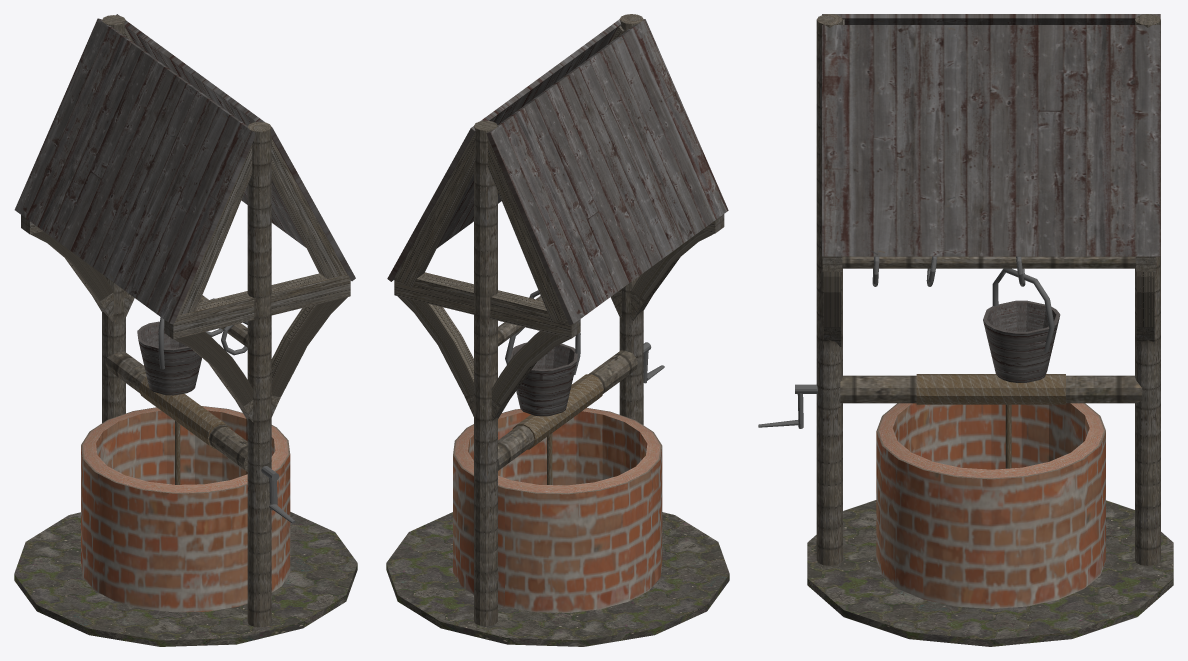
Rendered from WaterWeel.fbx.
3 views of the same model, side by side, from view 1: azimuth 30°, elevation 25°; view 2: azimuth 150°, elevation 25°; view 3: azimuth 270°, elevation 25° (orthographic). The views are drawn at different scales.
Parts seen in each view (by area): view 1: pCube12, pCylinder2, pCylinder1, pCylinder10, pCube10, pCube13, pCube7, pCylinder11, pCube8, pCylinder3, pCube6, pCube9 (+3 smaller); view 2: pCube12, pCylinder2, pCylinder1, pCylinder3, pCube1, pCube13, pCube5, pCylinder11, pCylinder10, pCube3, pCube4, pCube2 (+3 smaller); view 3: pCube13, pCylinder2, pCylinder1, pCylinder10, pCylinder3, pCylinder11, pCylinder6, pCylinder12, pCylinder5, pCube12, pCube8, pCube3 (+1 smaller).
Boxes of the visible parts, left/top/right/bottom form: pCube12: left=14, top=18, right=255, bottom=324; pCylinder2: left=81, top=406, right=290, bottom=612; pCylinder1: left=14, top=512, right=357, bottom=646; pCylinder10: left=247, top=121, right=271, bottom=627; pCube10: left=164, top=273, right=350, bottom=339; pCube13: left=116, top=14, right=355, bottom=281; pCube7: left=271, top=138, right=346, bottom=278; pCylinder11: left=137, top=321, right=201, bottom=395; pCube8: left=271, top=297, right=347, bottom=416; pCylinder3: left=102, top=15, right=125, bottom=422; pCube6: left=178, top=144, right=252, bottom=315; pCube9: left=174, top=332, right=253, bottom=422; pCube12: left=486, top=19, right=728, bottom=324; pCylinder2: left=453, top=408, right=662, bottom=612; pCylinder1: left=386, top=512, right=729, bottom=646; pCylinder3: left=474, top=120, right=497, bottom=626; pCube1: left=394, top=272, right=580, bottom=338; pCube13: left=387, top=19, right=620, bottom=281; pCube5: left=395, top=133, right=474, bottom=287; pCylinder11: left=510, top=342, right=577, bottom=416; pCylinder10: left=619, top=14, right=643, bottom=424; pCube3: left=397, top=296, right=473, bottom=416; pCube4: left=487, top=137, right=566, bottom=322; pCube2: left=491, top=331, right=570, bottom=421; pCube13: left=822, top=25, right=1160, bottom=256; pCylinder2: left=876, top=403, right=1105, bottom=608; pCylinder1: left=807, top=500, right=1173, bottom=646; pCylinder10: left=816, top=14, right=842, bottom=565; pCylinder3: left=1135, top=14, right=1160, bottom=565; pCylinder11: left=983, top=300, right=1060, bottom=382; pCylinder6: left=840, top=375, right=1142, bottom=403; pCylinder12: left=916, top=374, right=1065, bottom=404; pCylinder5: left=842, top=256, right=1135, bottom=268; pCube12: left=822, top=14, right=1160, bottom=24; pCube8: left=823, top=272, right=841, bottom=346; pCube3: left=1136, top=272, right=1154, bottom=346.
Bounding box in the file's own units: 14.4 × 23.4 × 15.92.
